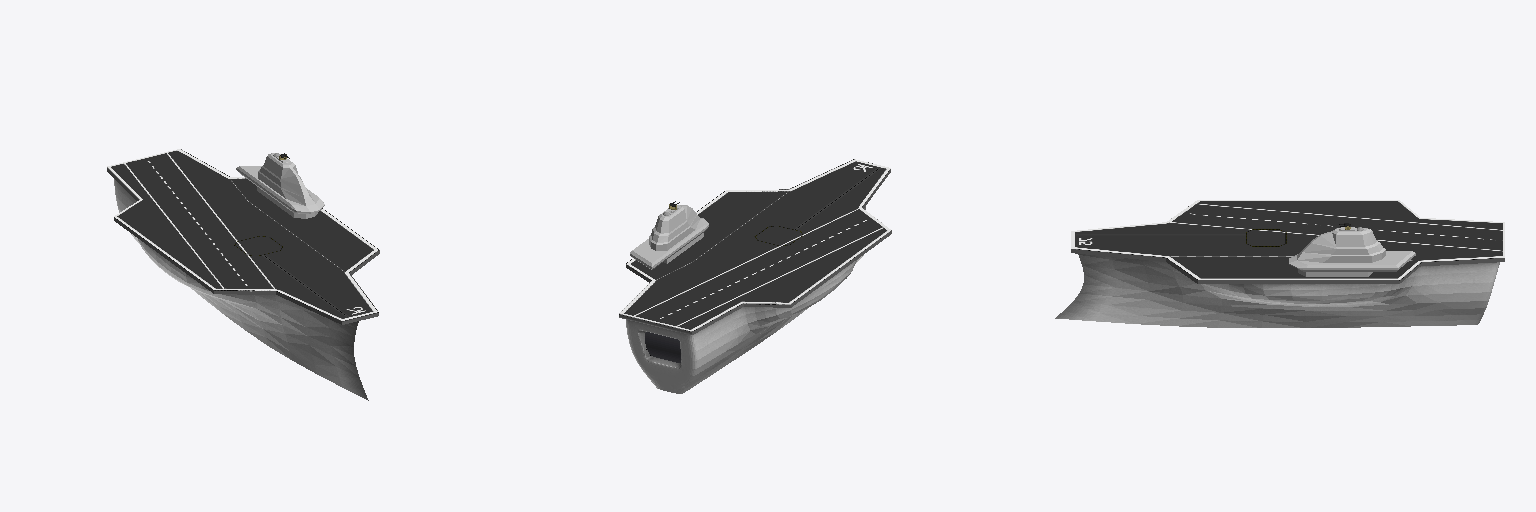
3 renders of one model, left to right at view 1: azimuth 30°, elevation 25°; view 2: azimuth 150°, elevation 25°; view 3: azimuth 270°, elevation 25°, orthographic.
Visible parts, largest first — view 1: Deck, Hull, DeckTower; view 2: Deck, Hull, DeckTower, BayDoor; view 3: Deck, Hull, DeckTower.
Part boxes in pixels (x1,y1,x2,y2): Deck: (107, 149, 379, 324); Hull: (114, 179, 368, 400); DeckTower: (236, 153, 324, 218); Deck: (619, 159, 891, 334); Hull: (626, 206, 865, 393); DeckTower: (630, 205, 708, 269); BayDoor: (645, 332, 680, 362); Deck: (1071, 200, 1504, 283); Hull: (1055, 254, 1499, 327); DeckTower: (1289, 227, 1415, 276).
Size of the model in its own units: 61.92 by 44.73 by 146.
Materials: 8 (1 with a texture image).